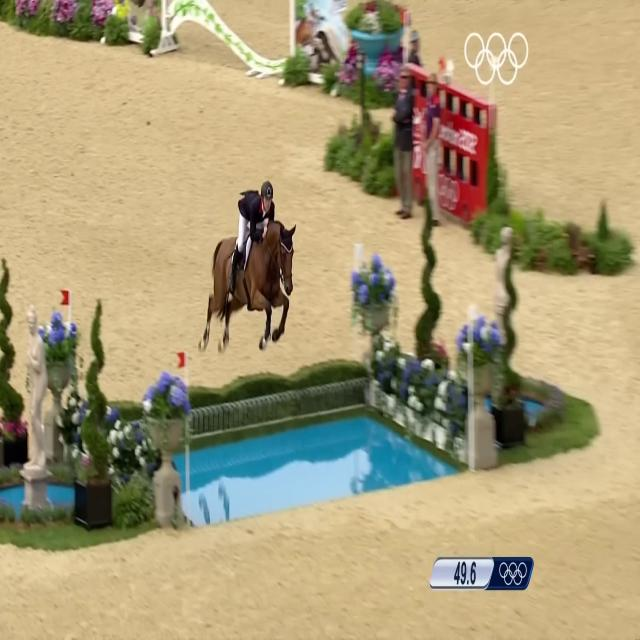Horse Rider: (226, 159, 282, 303)
Horse Running: (198, 216, 301, 368)
